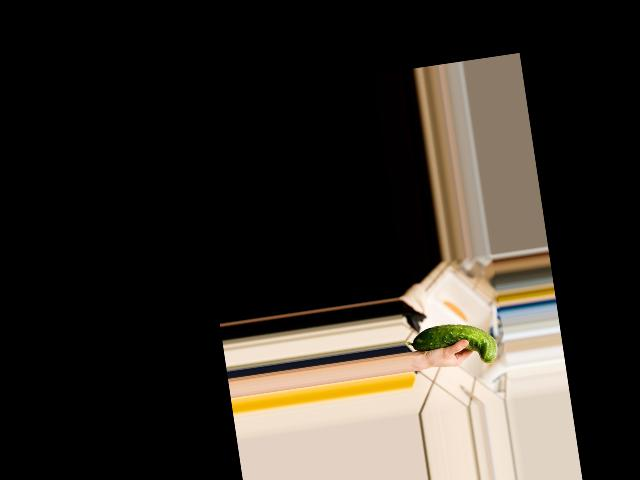cucumber: (404, 317, 499, 374)
